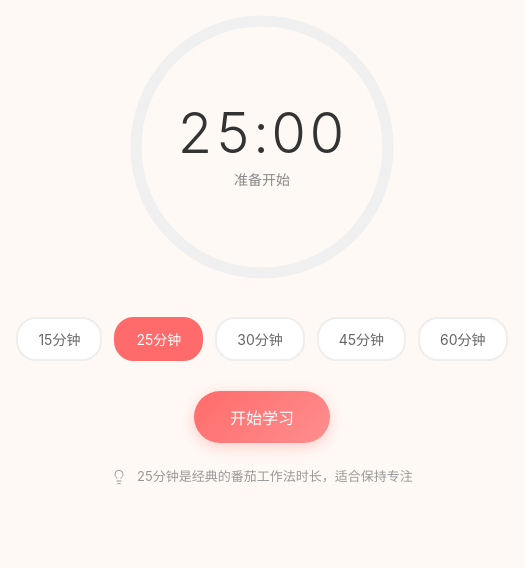
Test: Timer Component › 计时控制 › 暂停后应该显示继续和重置按钮
This screenshot has width=525, height=568.
Click the button "开始学习" at point(262, 417), box [194,391,330,443]
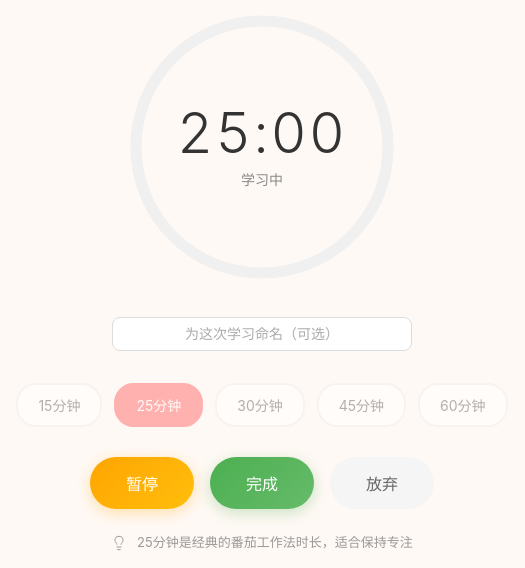
Click the button "暂停" at point(142, 483), box [90,457,194,509]
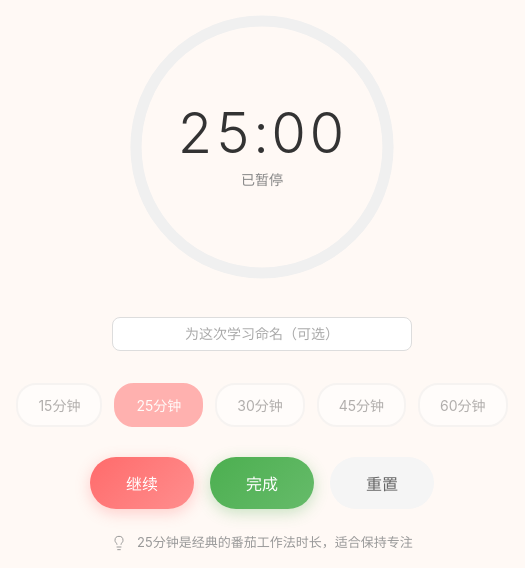
Expected: the button "完成" is shown, [210,457,314,509]
Expected: the button "继续" is shown, [90,457,194,509]
Expected: the button "重置" is shown, [330,457,434,509]
